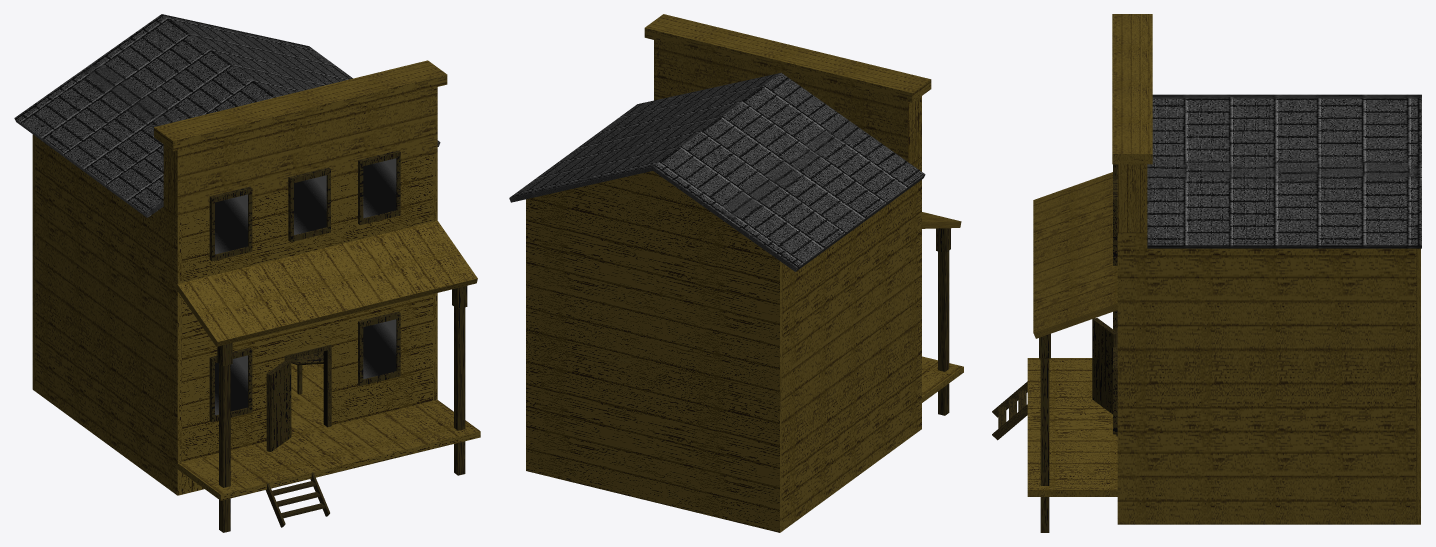
File: BuildingWithInsideTEXTURED.fbx
The picture shows the model from 3 angles, left to right: view 1: azimuth 30°, elevation 25°; view 2: azimuth 150°, elevation 25°; view 3: azimuth 270°, elevation 25°; orthographic projection. The views are drawn at different scales.
Parts seen in each view (by area): view 1: Cube.006, Cube.007, Cube.008, Cube.010, Cube.002, Cube.009, Cube.011, Door, Cube.012, DoorFrame; view 2: Cube.006, Cube.007, Cube.008, Cube.011; view 3: Cube.006, Cube.007, Cube.010, Cube.008, Cube.011, Door, Cube.012, Cube.009.
Part boxes in pixels (x1,y1,x2,y2): Cube.006: (32, 134, 480, 500); Cube.007: (14, 14, 440, 217); Cube.008: (154, 60, 447, 216); Cube.010: (176, 220, 477, 346); Cube.002: (215, 158, 396, 415); Cube.009: (209, 150, 400, 422); Cube.011: (217, 286, 467, 532); Door: (266, 360, 291, 451); Cube.012: (265, 472, 329, 527); DoorFrame: (284, 344, 331, 427); Cube.006: (526, 156, 963, 532); Cube.007: (509, 72, 925, 271); Cube.008: (644, 14, 931, 163); Cube.011: (936, 228, 950, 415); Cube.006: (1027, 232, 1420, 524); Cube.007: (1147, 94, 1421, 248); Cube.010: (1033, 172, 1117, 338); Cube.008: (1112, 14, 1152, 232); Cube.011: (1039, 334, 1050, 532); Door: (1092, 318, 1116, 414); Cube.012: (992, 381, 1027, 440); Cube.009: (1113, 164, 1117, 434).
Size of the model in its own units: 1841 by 2208 by 2221.
Materials: 4 (4 with a texture image).
